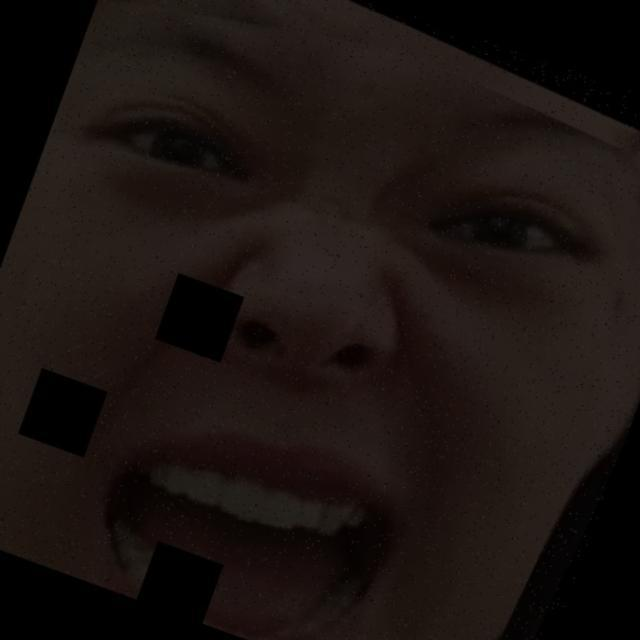angry: (30, 23, 598, 640)
